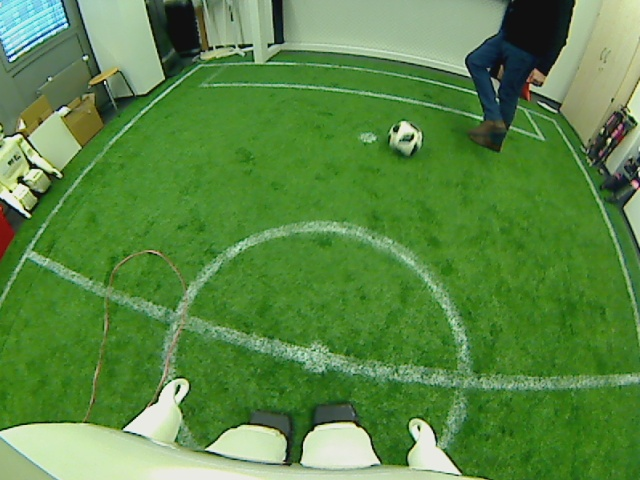ball: (388, 118, 424, 156)
